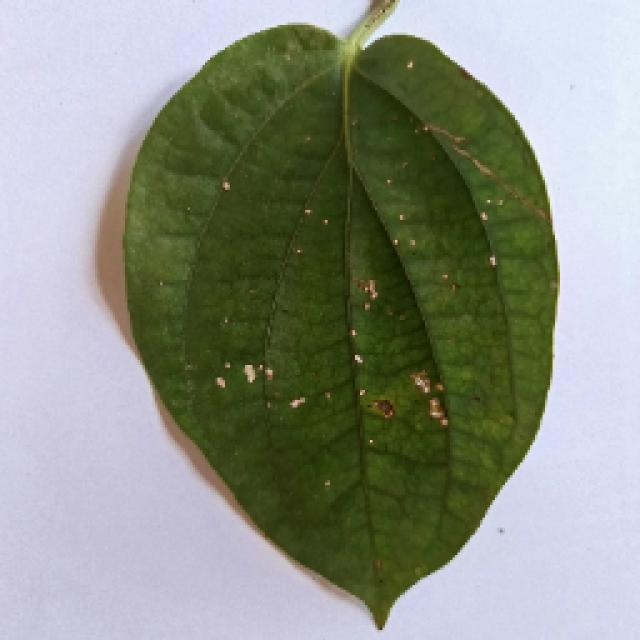pollu-disease: (80, 18, 582, 632)
